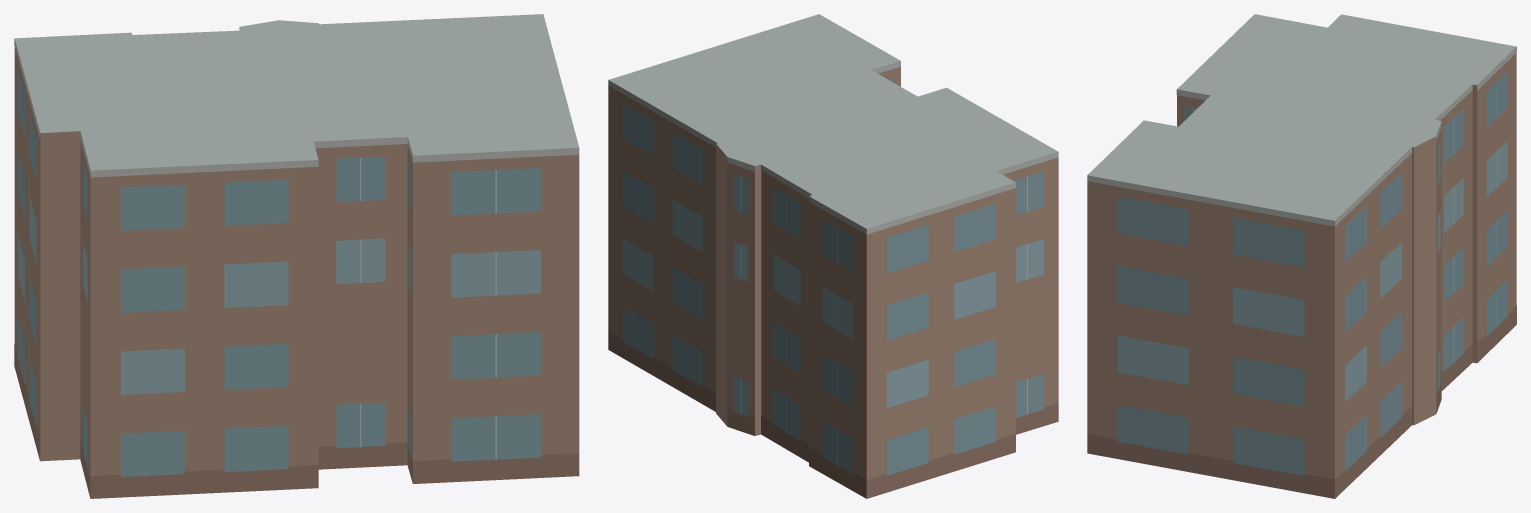
File: survey-upis-32532786.glb
The picture shows the model from 3 angles, left to right: view 1: azimuth 30°, elevation 25°; view 2: azimuth 150°, elevation 25°; view 3: azimuth 270°, elevation 25°; orthographic projection. The views are drawn at different scales.
Visible parts, largest first — view 1: survey-upis-32532786.tmp; view 2: survey-upis-32532786.tmp; view 3: survey-upis-32532786.tmp.
Boxes of the visible parts, x1=… form: survey-upis-32532786.tmp: x1=14, y1=14, x2=579, y2=498; survey-upis-32532786.tmp: x1=608, y1=14, x2=1058, y2=498; survey-upis-32532786.tmp: x1=1087, y1=14, x2=1516, y2=498.
Bounding box in the file's own units: 18.67 × 11.7 × 16.39.
